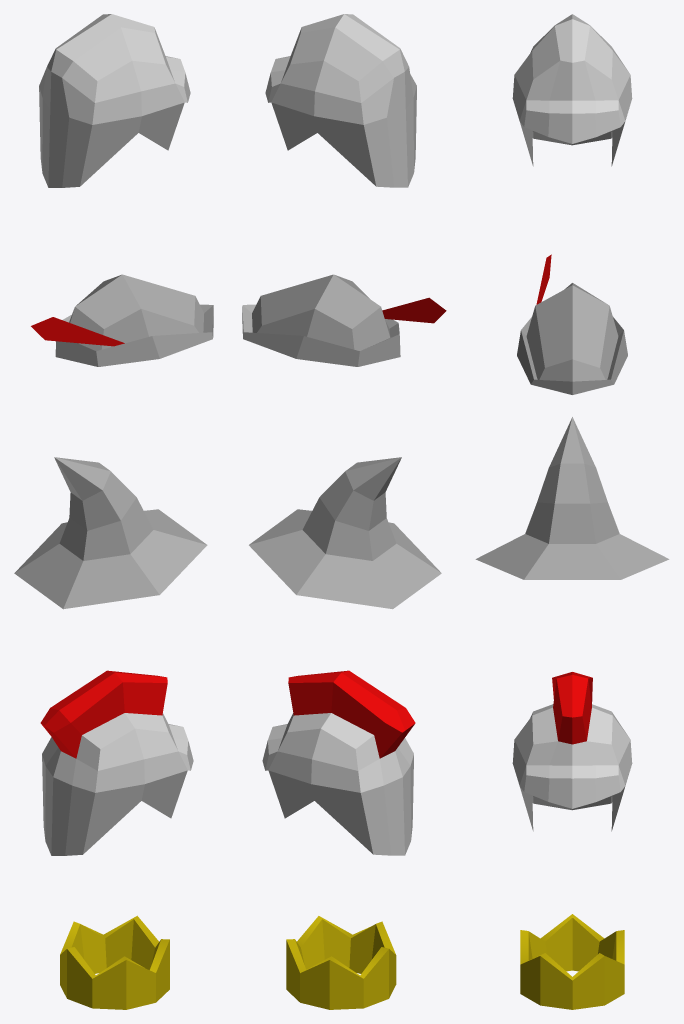
The model's file is LP_HumeHats.fbx.
3 views of the same model, side by side, from view 1: azimuth 30°, elevation 25°; view 2: azimuth 150°, elevation 25°; view 3: azimuth 270°, elevation 25° (orthographic).
Parts seen in each view (by area): view 1: pCube12, pCube24, pasted__pCone2, pCube18, pPipe5; view 2: pCube12, pCube24, pasted__pCone2, pCube18, pPipe5; view 3: pasted__pCone2, pCube12, pCube24, pCube18, pPipe5.
Boxes of the visible parts, x1,y1,x2,y2 form: pCube12: (40, 670, 193, 855); pCube24: (39, 14, 190, 187); pasted__pCone2: (14, 457, 207, 609); pCube18: (31, 274, 213, 366); pPipe5: (60, 915, 169, 1009); pCube12: (262, 670, 415, 855); pCube24: (265, 14, 416, 187); pasted__pCone2: (249, 457, 441, 609); pCube18: (242, 274, 446, 366); pPipe5: (286, 916, 396, 1009); pasted__pCone2: (475, 417, 669, 579); pCube12: (512, 672, 632, 831); pCube24: (512, 14, 632, 166); pCube18: (517, 254, 627, 394); pPipe5: (520, 914, 624, 1009).
Bounding box in the file's own units: 0.9017 × 4.33 × 0.7897.
